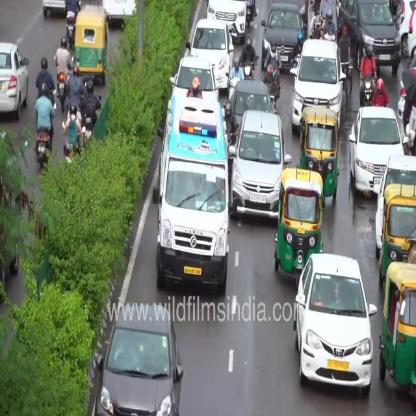auto-rikshaw: (273, 166, 323, 286), (378, 260, 416, 394), (298, 104, 340, 206)
bike: (265, 64, 281, 110), (340, 58, 354, 106), (359, 72, 377, 106), (240, 53, 258, 79)
car: (292, 251, 378, 397), (94, 302, 184, 414), (226, 108, 292, 220), (289, 36, 346, 134), (348, 103, 404, 197), (338, 0, 402, 76), (166, 53, 220, 137), (373, 153, 415, 255), (184, 17, 234, 92), (260, 2, 304, 72), (226, 78, 274, 130), (206, 0, 248, 44)
priority: (154, 95, 230, 295)
